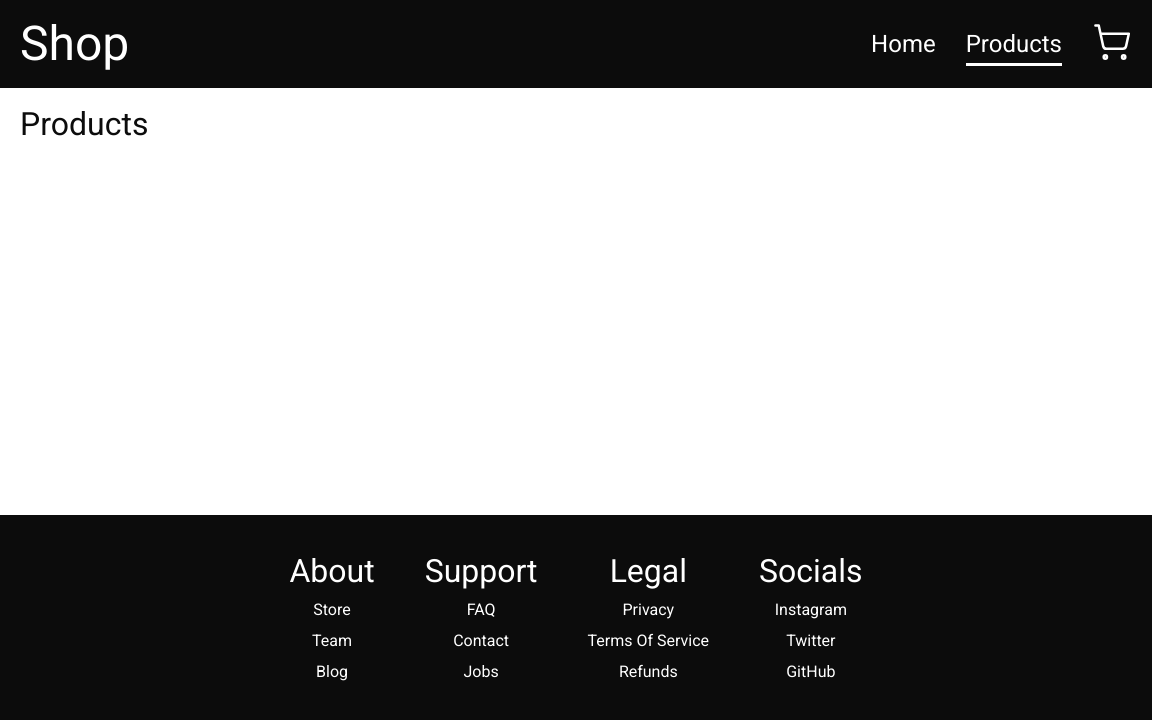
Test: Header Component › Switches route to Root when clicking Home link
Click the link "Home" at (903, 46), box [871,30,936,63]
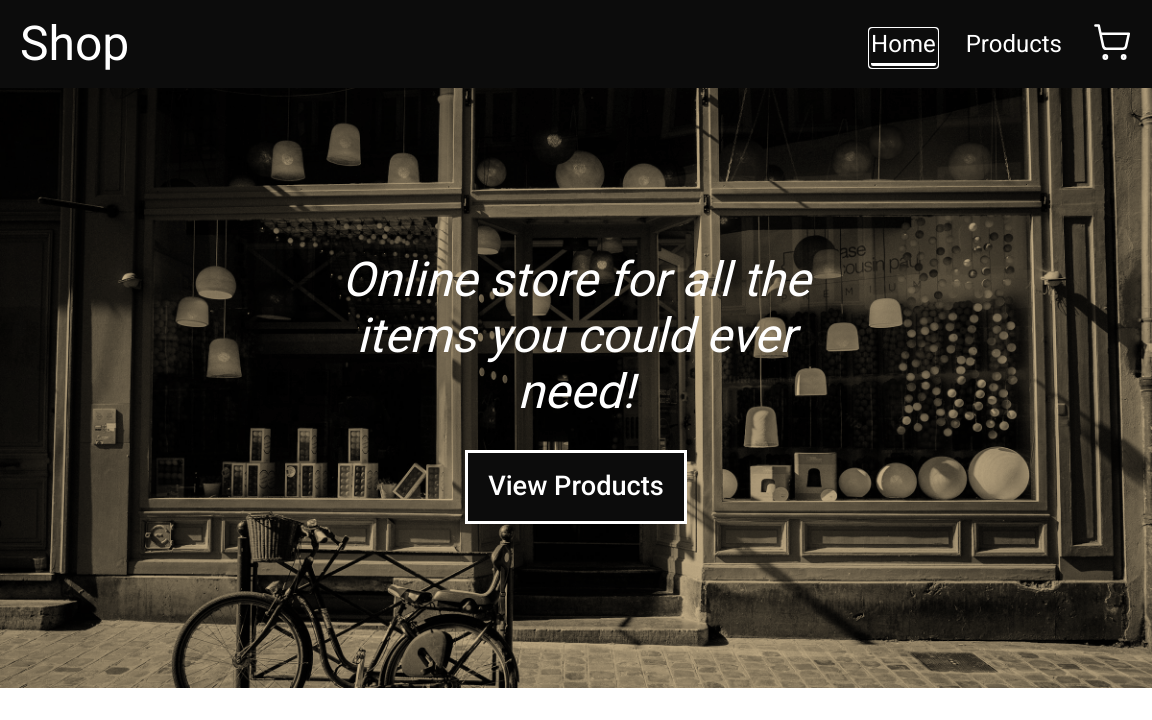
Expected: the heading "Online store for all the items you could ever need!" is shown, [326,252,826,420]
